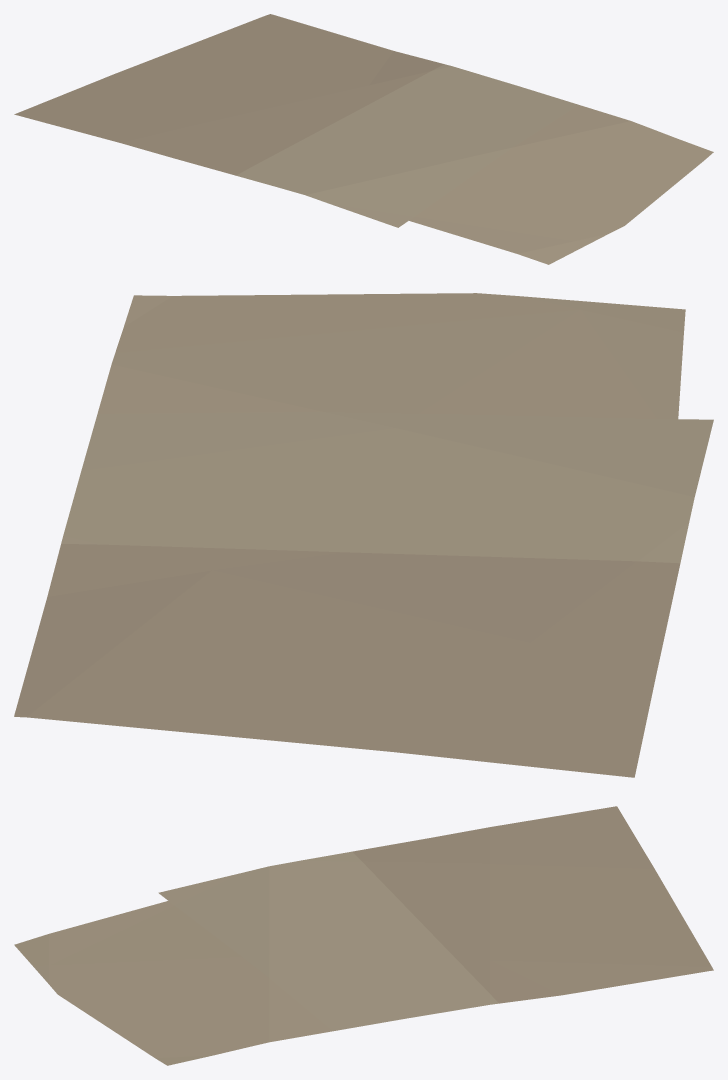
File: farm_28_13_soil.glb
3 renders of one model, top to bottom at view 1: azimuth 30°, elevation 25°; view 2: azimuth 150°, elevation 25°; view 3: azimuth 270°, elevation 25°, orthographic. The views are drawn at different scales.
Parts seen in each view (by area): view 1: geometry_0; view 2: geometry_0; view 3: geometry_0.
Part boxes in pixels (x1,y1,x2,y2): geometry_0: (14, 14, 713, 264); geometry_0: (14, 293, 713, 777); geometry_0: (14, 806, 713, 1065).
Bounding box in the file's own units: 220 × 5.58 × 254.
